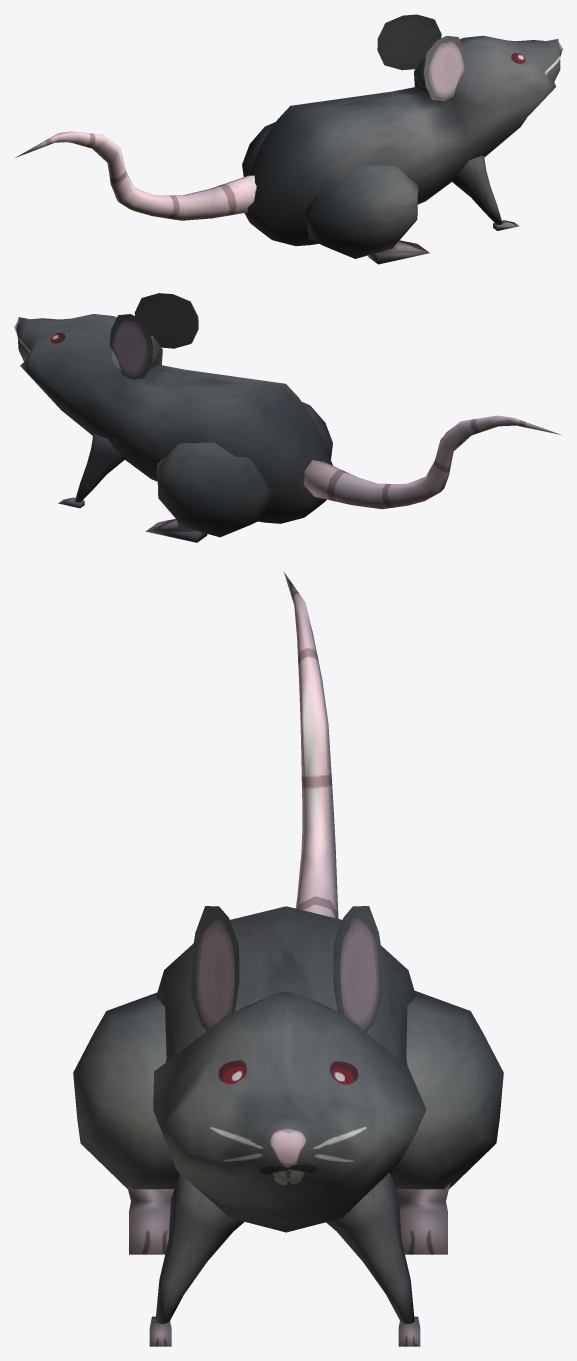
Rendered from RataT (1).fbx.
The picture shows the model from 3 angles, top to bottom: view 1: azimuth 30°, elevation 25°; view 2: azimuth 150°, elevation 25°; view 3: azimuth 270°, elevation 25°; orthographic projection. The views are drawn at different scales.
Visible parts, largest first — view 1: Cylinder002; view 2: Cylinder002; view 3: Cylinder002.
Part boxes in pixels (x1,y1,x2,y2): Cylinder002: (15, 14, 562, 264); Cylinder002: (14, 293, 561, 542); Cylinder002: (73, 572, 503, 1346).
Bounding box in the file's own units: 65.39 × 21.47 × 22.24.
Materials: 1 (1 with a texture image).
